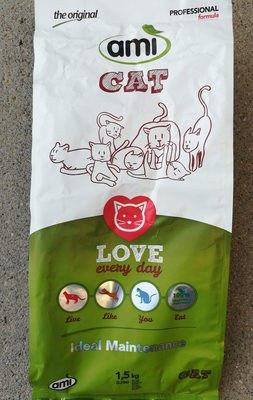AMI CAT Ideal Maintenance: (13, 20, 240, 380)
